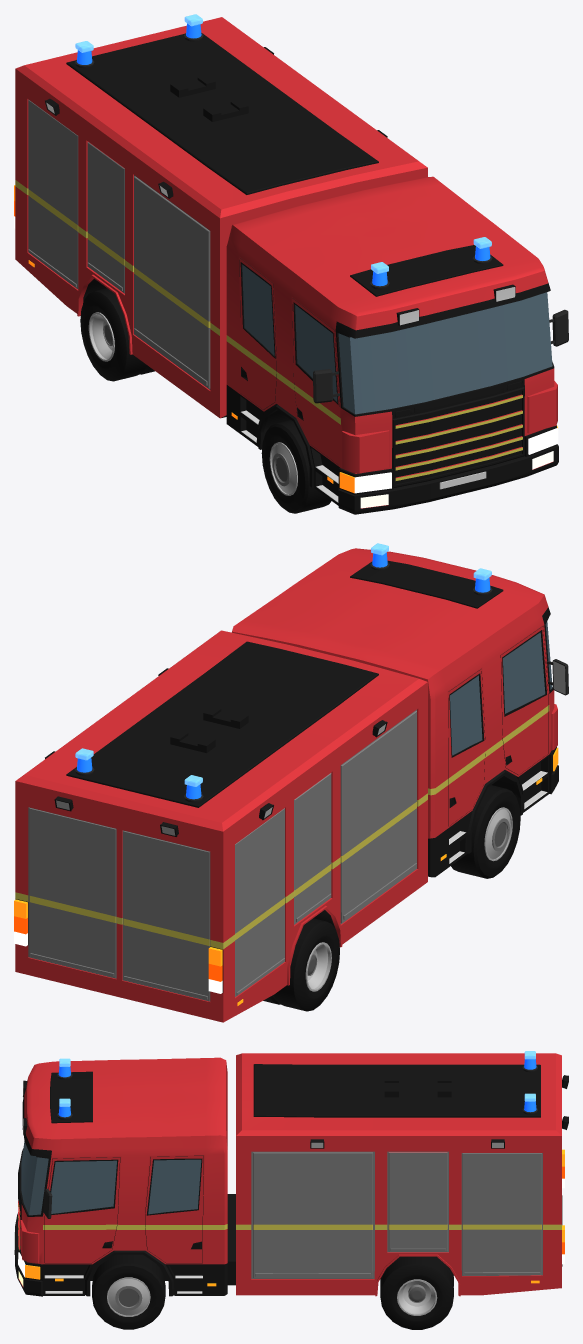
The model's file is fire-red.glb.
3 renders of one model, top to bottom at view 1: azimuth 30°, elevation 25°; view 2: azimuth 150°, elevation 25°; view 3: azimuth 270°, elevation 25°, orthographic. The views are drawn at different scales.
Visible parts, largest first — view 1: FireTruckLow; view 2: FireTruckLow; view 3: FireTruckLow.
Part boxes in pixels (x1=…): FireTruckLow: x1=14, y1=17, x2=568, y2=514; FireTruckLow: x1=14, y1=548, x2=568, y2=1022; FireTruckLow: x1=14, y1=1053, x2=568, y2=1329.
Size of the model in its own units: 0.4219 by 0.426 by 1.
